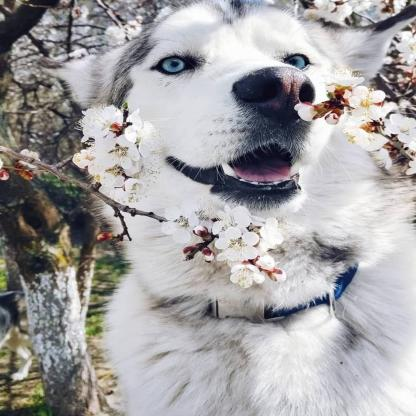husky: (38, 4, 414, 416)
